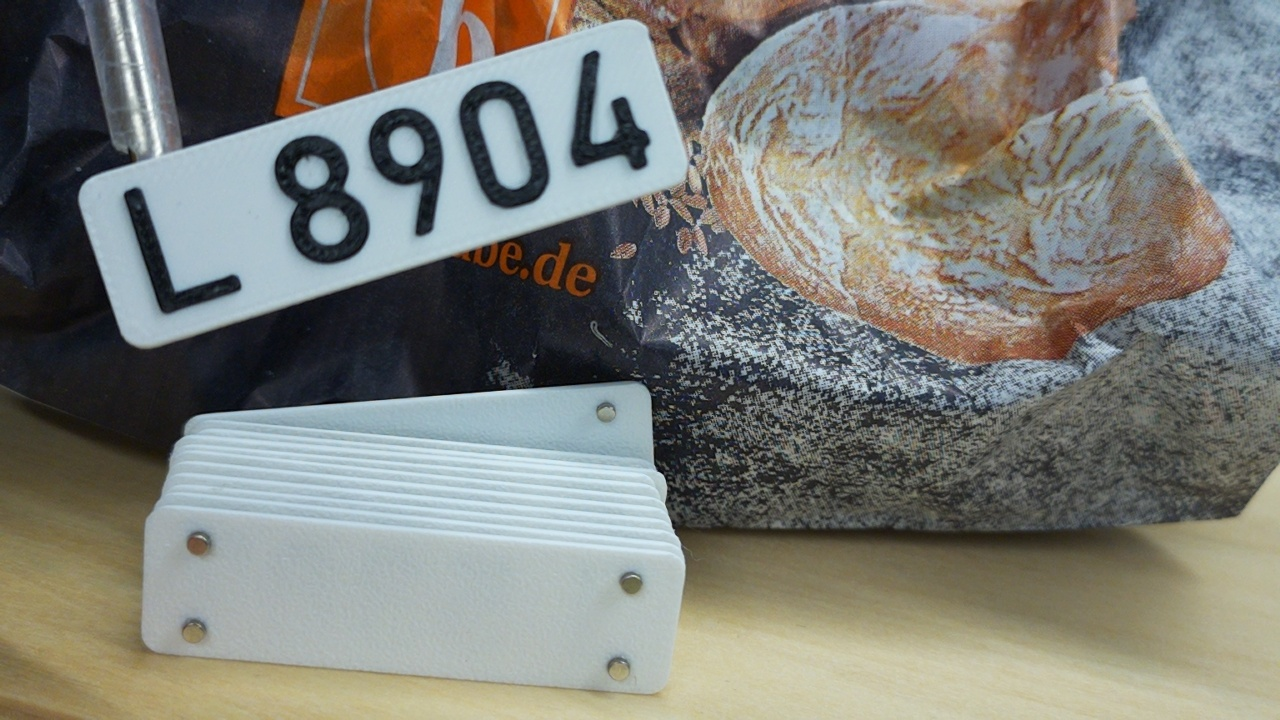license_plate: (73, 15, 692, 352)
